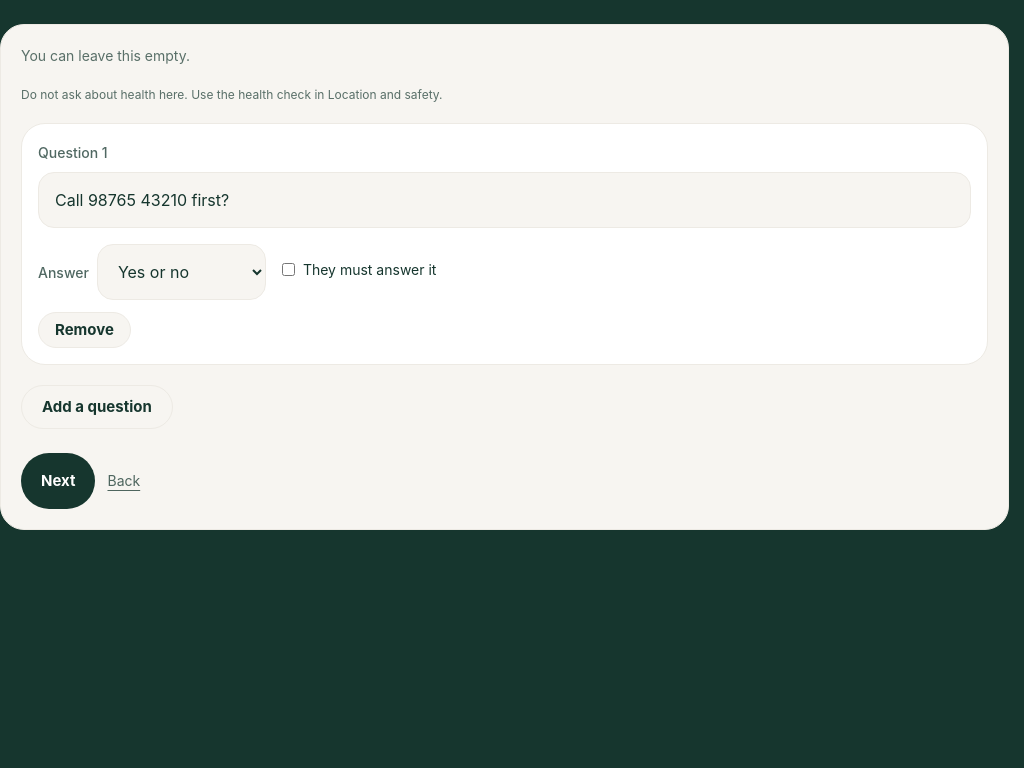
Test case: a refused step › says why a question was refused, under the question
What coordinates should you click on to do the following:
click the button "Next"
I would click on:
 (58, 481)
Its box is 21,453 -> 96,509.
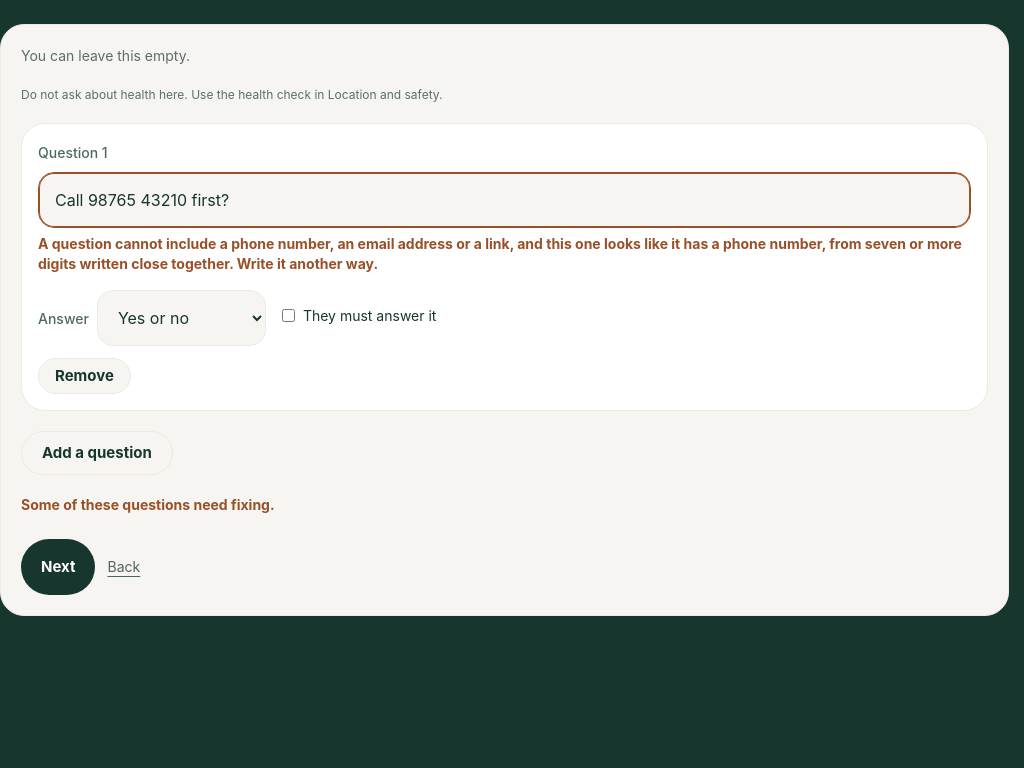
Expected: the field labelled "Question 1" holds "Call 98765 43210 first?", 38,172 -> 971,228
Expected: the text "A question cannot include a phone number, an email address or a link, and this one looks like it has a phone number, fro" is shown, 38,235 -> 962,272
